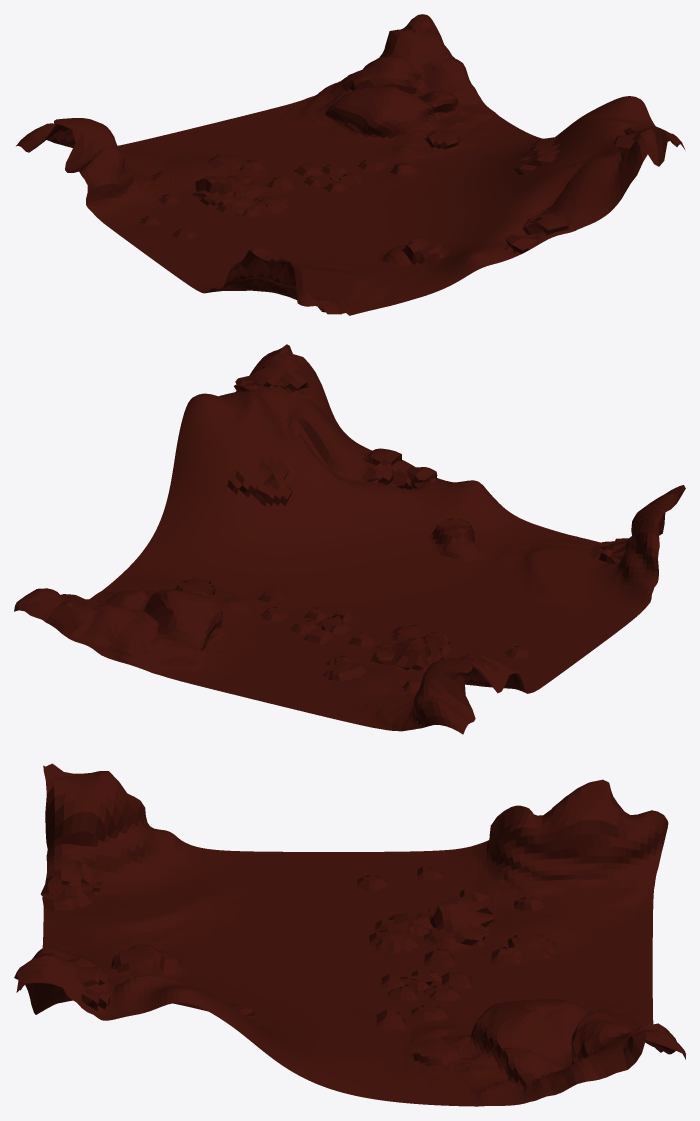
The model's file is mars_surface.obj.
3 views of the same model, one above another, from view 1: azimuth 30°, elevation 25°; view 2: azimuth 150°, elevation 25°; view 3: azimuth 270°, elevation 25° (orthographic). The views are drawn at different scales.
Visible parts, largest first — view 1: Plane; view 2: Plane; view 3: Plane.
Boxes of the visible parts, <box> form: Plane: <box>16,14,685,315</box>; Plane: <box>14,344,685,734</box>; Plane: <box>14,763,685,1106</box>.
Bounding box in the file's own units: 43.8 × 10.82 × 44.13.
